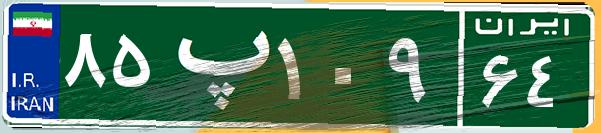0: (330, 28, 385, 110)
1: (273, 28, 330, 110)
4: (525, 38, 570, 115)
5: (110, 28, 158, 105)
6: (475, 38, 525, 113)
8: (57, 26, 110, 107)
9: (385, 28, 445, 110)
پ: (158, 15, 273, 115)
